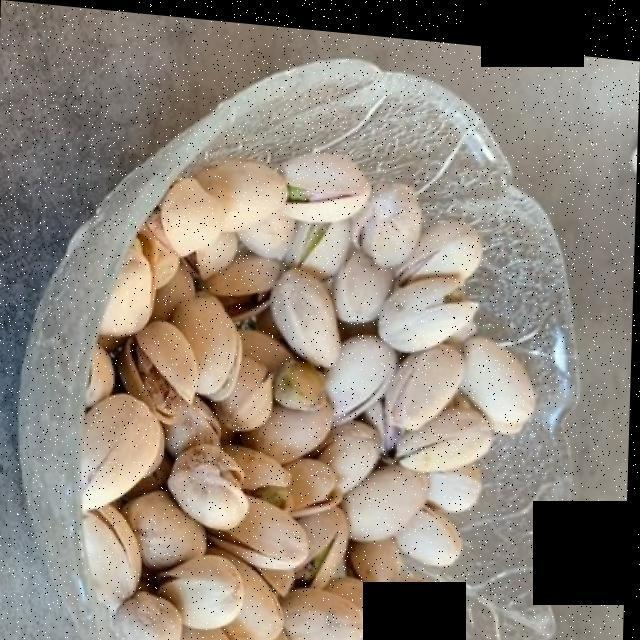pistachio: (84, 153, 545, 640)
